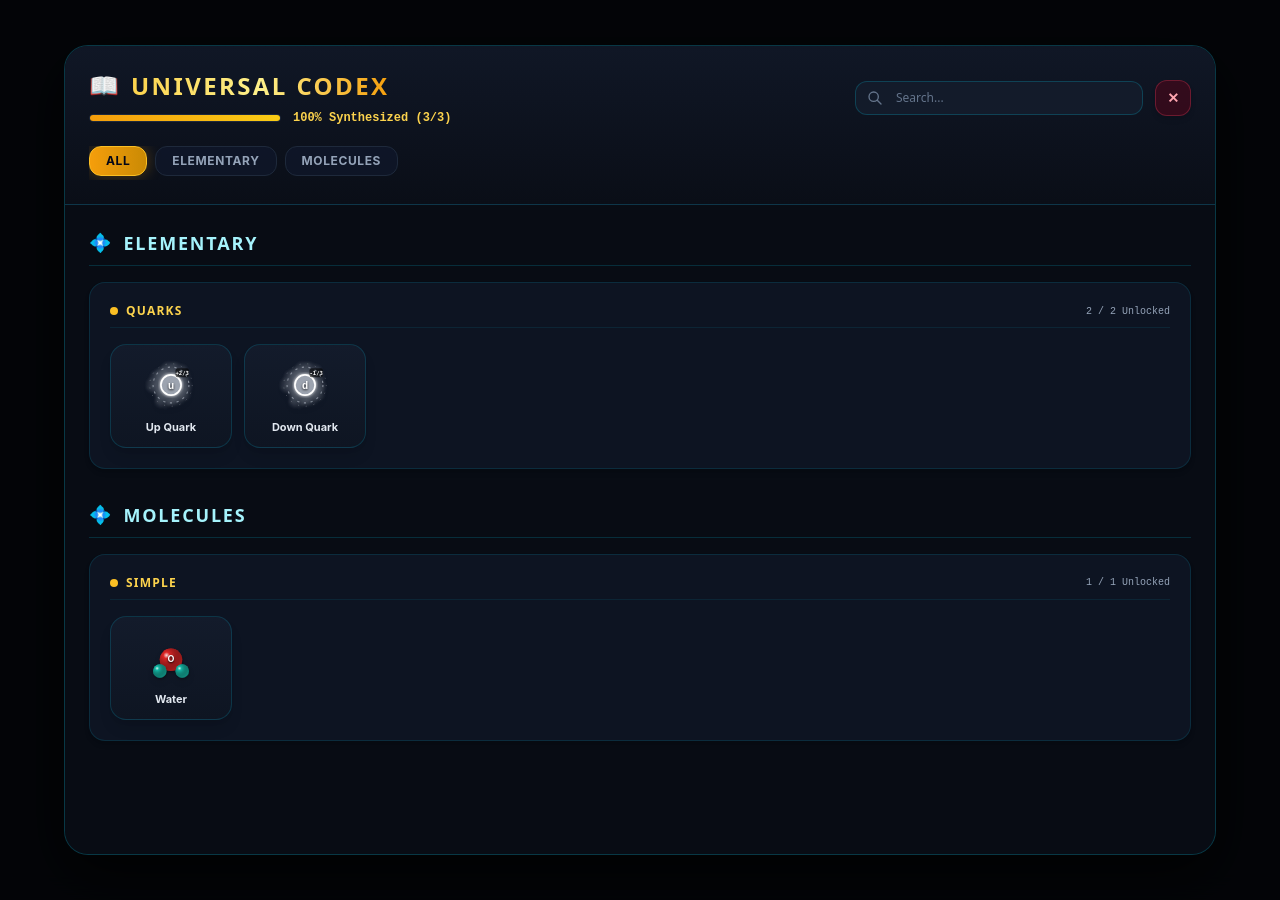
Test case: Codex Component › should filter items when searching
Type "Quark" into the field with placeholder "Search..." at (999, 98), box top-left (855, 81), bottom-right (1143, 115)
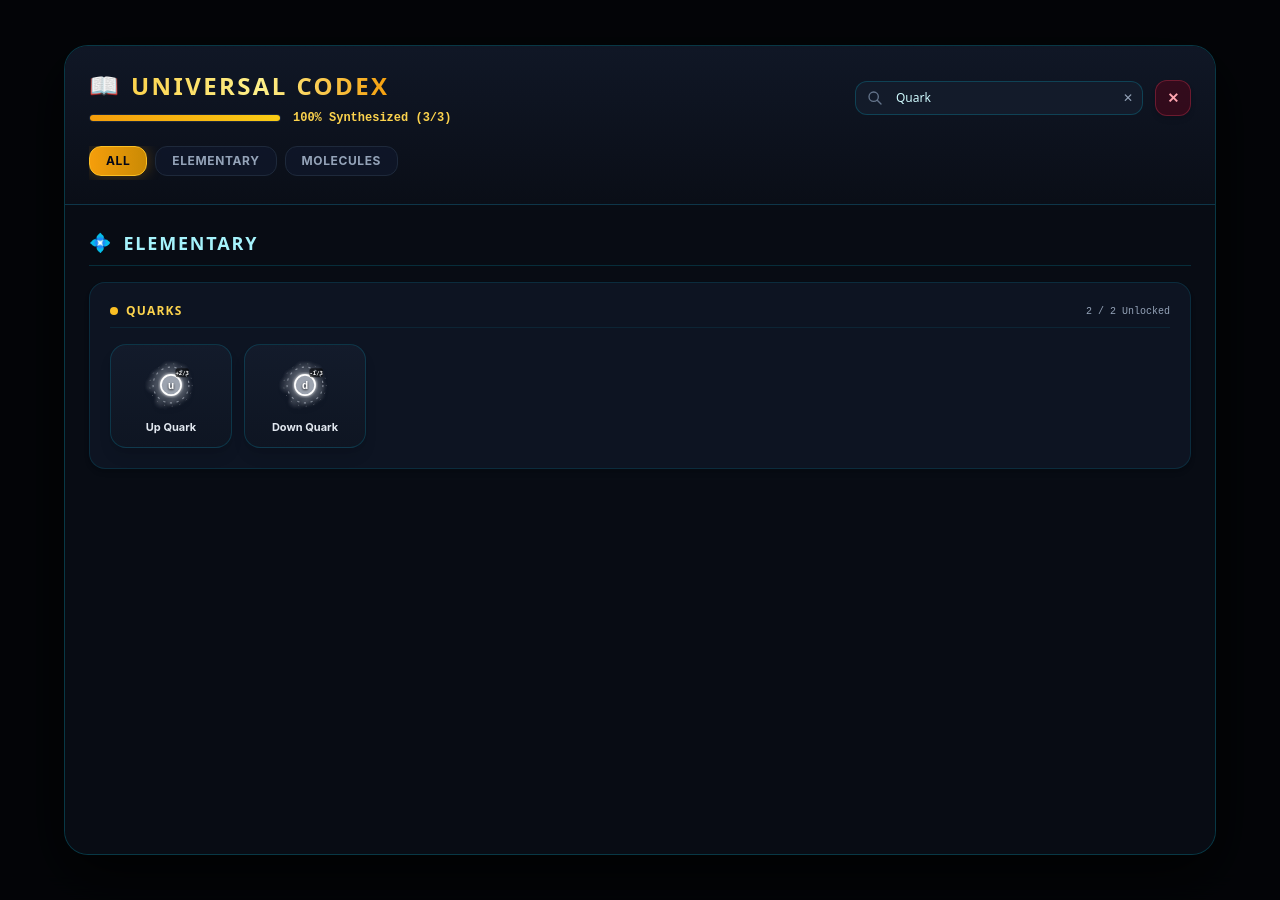
Expected: the text "Up Quark" is shown, top-left (146, 420), bottom-right (196, 434)
Now the text "Water" is gone
